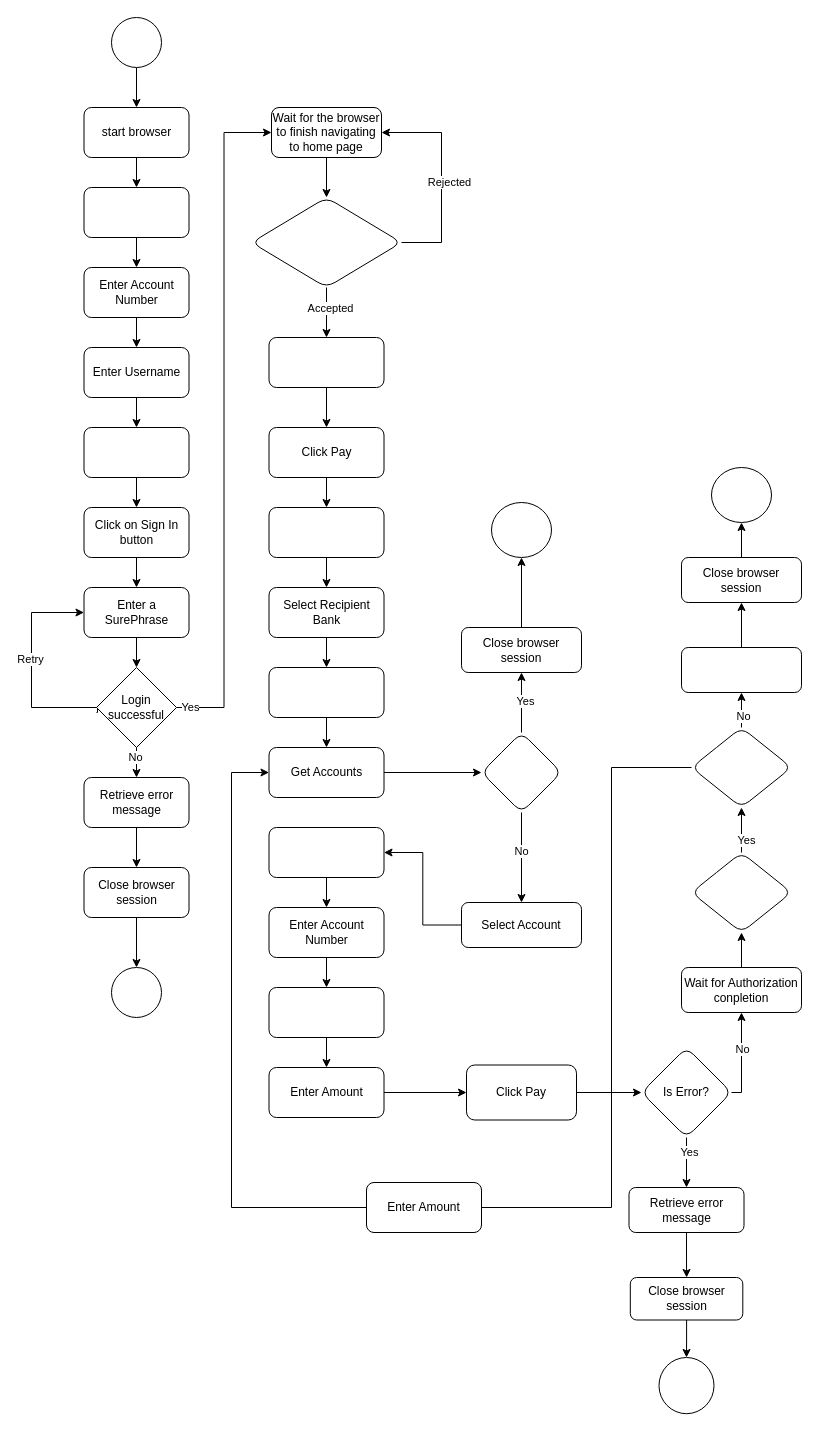
This 819x1432 diagram has some shape labels left out. The centre of each missing label's shape, as x and y in pixels:
"Authorization Success?" belongs at [741,892].
"Authorize payment" belongs at [326,242].
"Click Once Off Payment" belongs at [326,362].
"Enter Account Type" belongs at [326,692].
"Enter Beneficiary Name" belongs at [326,532].
"Enter Beneficiary Reference" belongs at [326,1012].
"Enter My Reference" belongs at [326,852].
"Enter PIN" belongs at [136,452].
"insufficient funds error?" belongs at [741,767].
"Navigate to ABSA online banking" belongs at [136,212].
"Retrieve success details" belongs at [741,669].
"User cancelled?" belongs at [521,772].
